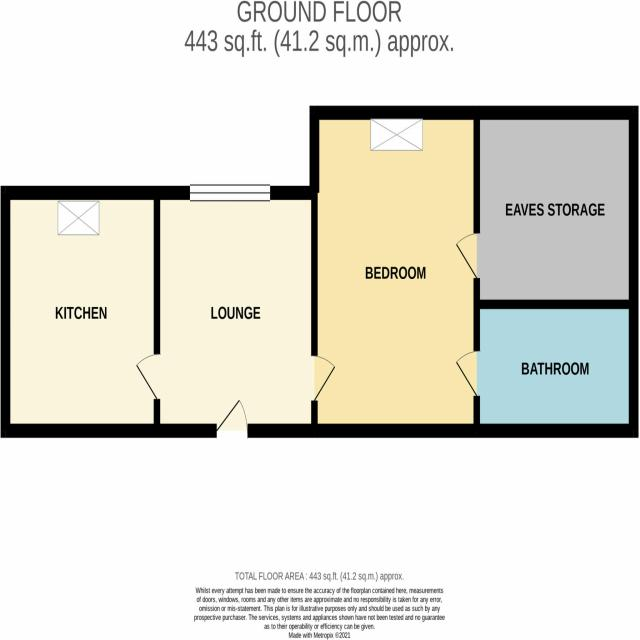DOOR: (216, 397, 249, 439), (454, 232, 481, 280), (454, 348, 480, 397), (311, 353, 337, 402), (134, 353, 160, 400)
ROOM: (310, 104, 481, 438), (1, 186, 160, 438)
WINDOW: (188, 183, 271, 202)
